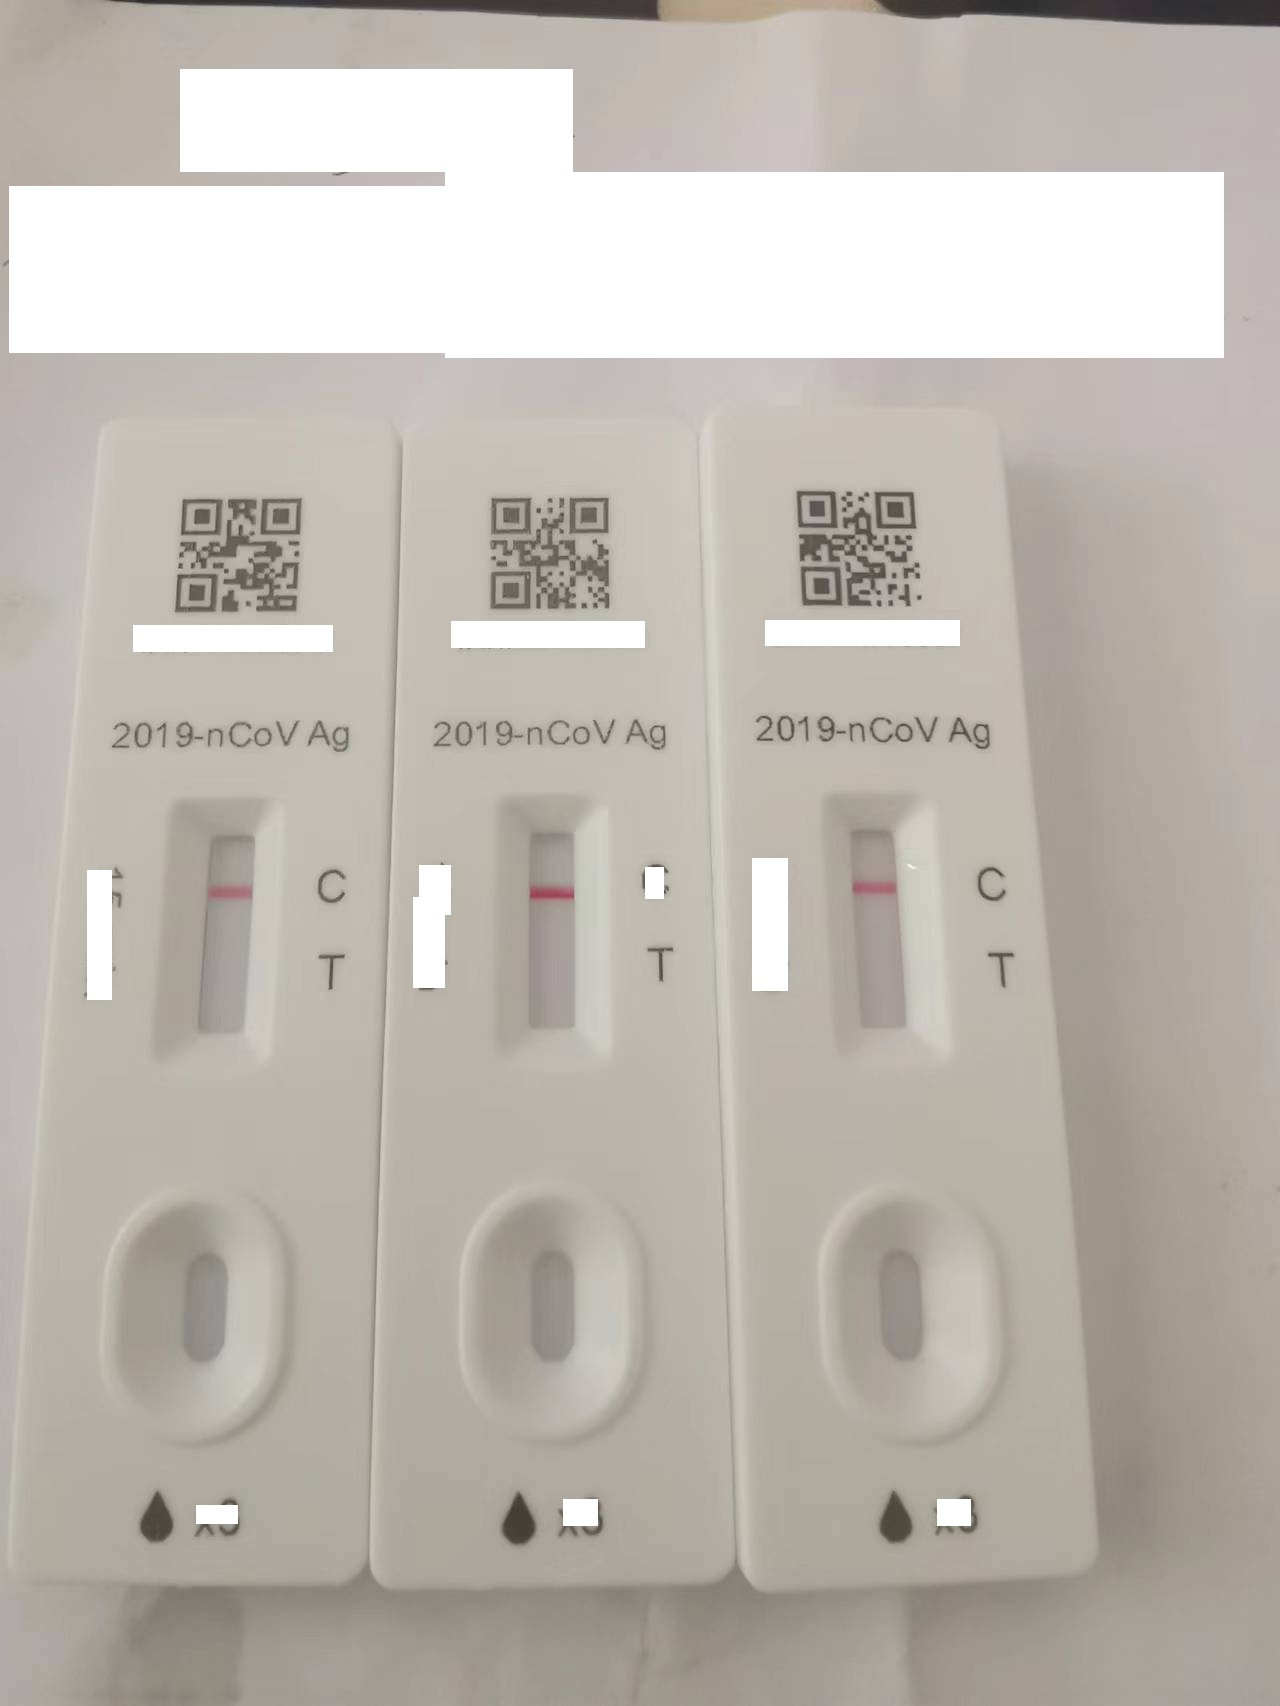negative: (824, 774, 943, 1050), (496, 792, 606, 1063), (163, 799, 278, 1057)
